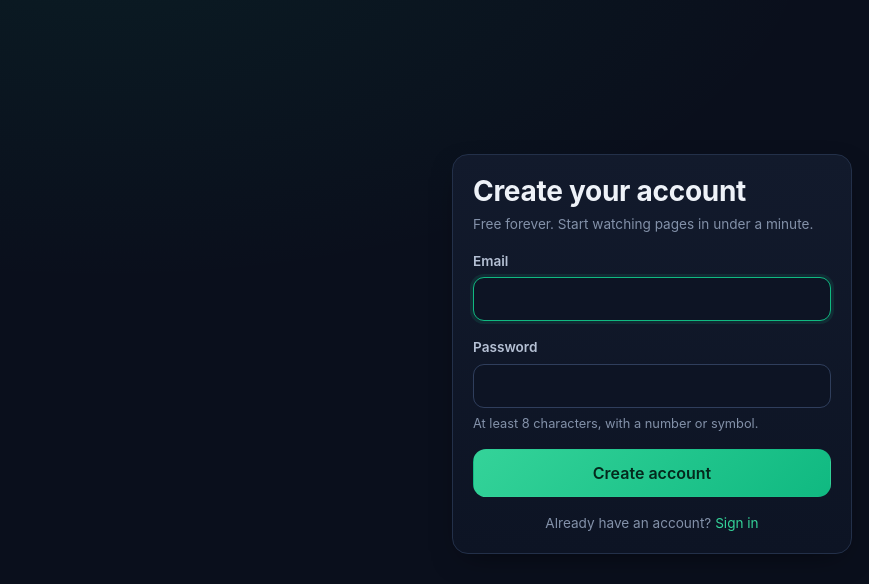
Scenario: auth pages › validates the registration form before submitting
The width and height of the screenshot is (869, 584).
Type "not-an-email" into the field labelled "Email" at (652, 299), box [473, 277, 831, 321]
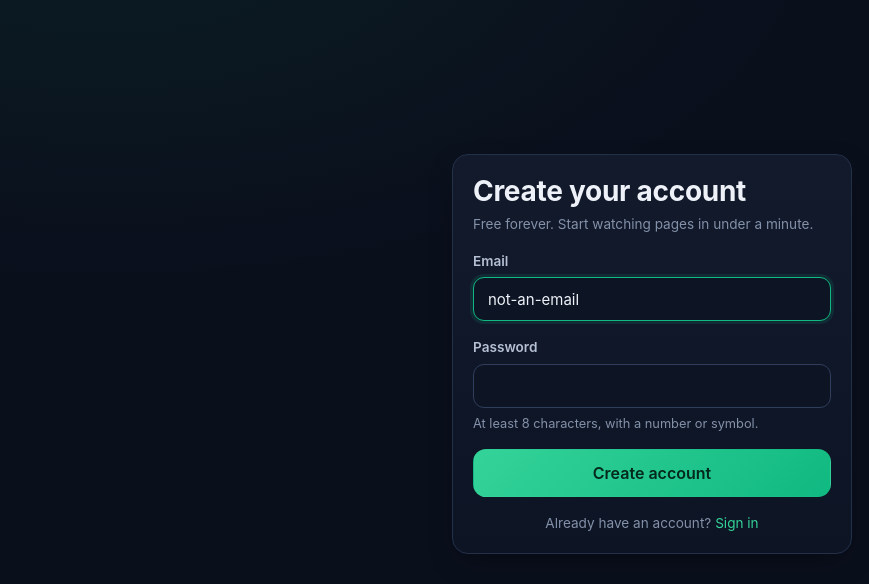
Type "short" into the password field labelled "Password" at (652, 386), box [473, 364, 831, 408]
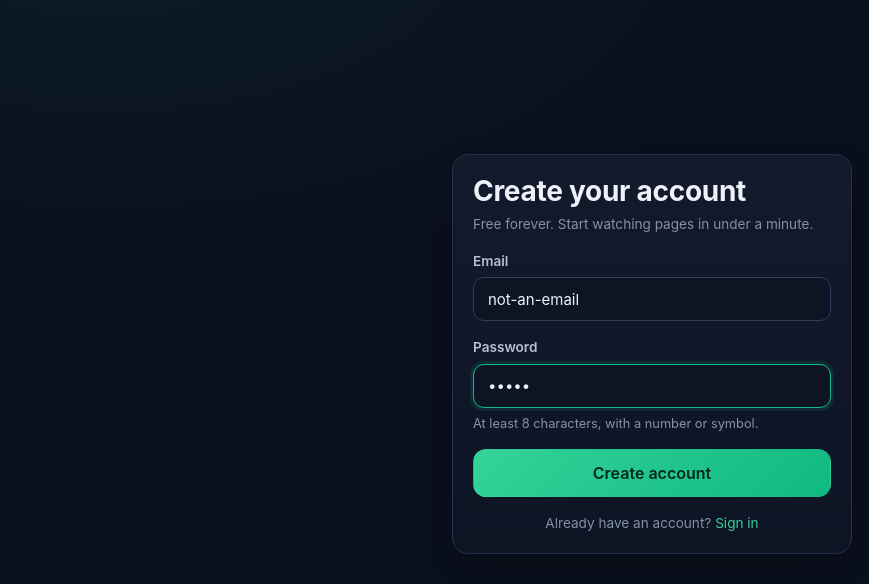
Click the button "Create account" at (652, 473), box [473, 449, 831, 497]
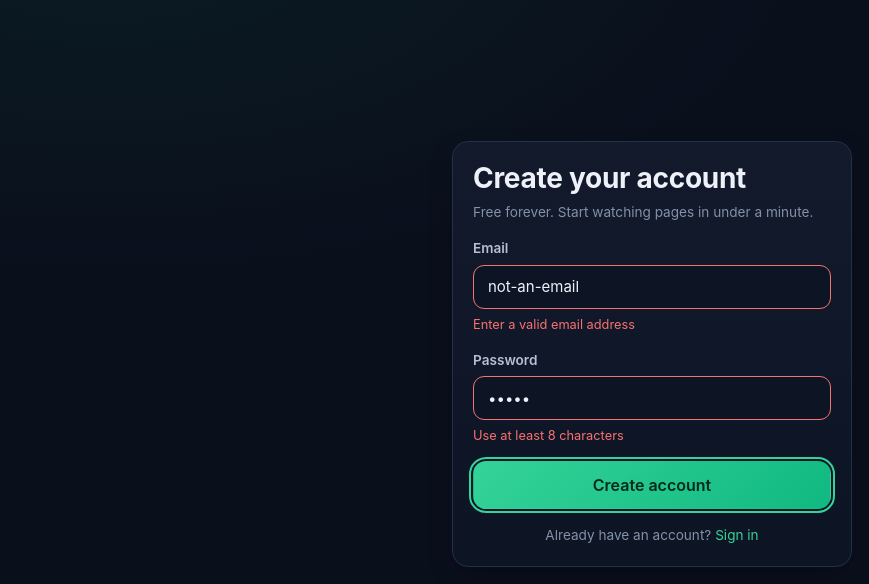
Result: the text "Enter a valid email address" is shown at [473, 317, 635, 332]
Result: the text "Use at least 8 characters" is shown at [473, 428, 624, 443]
